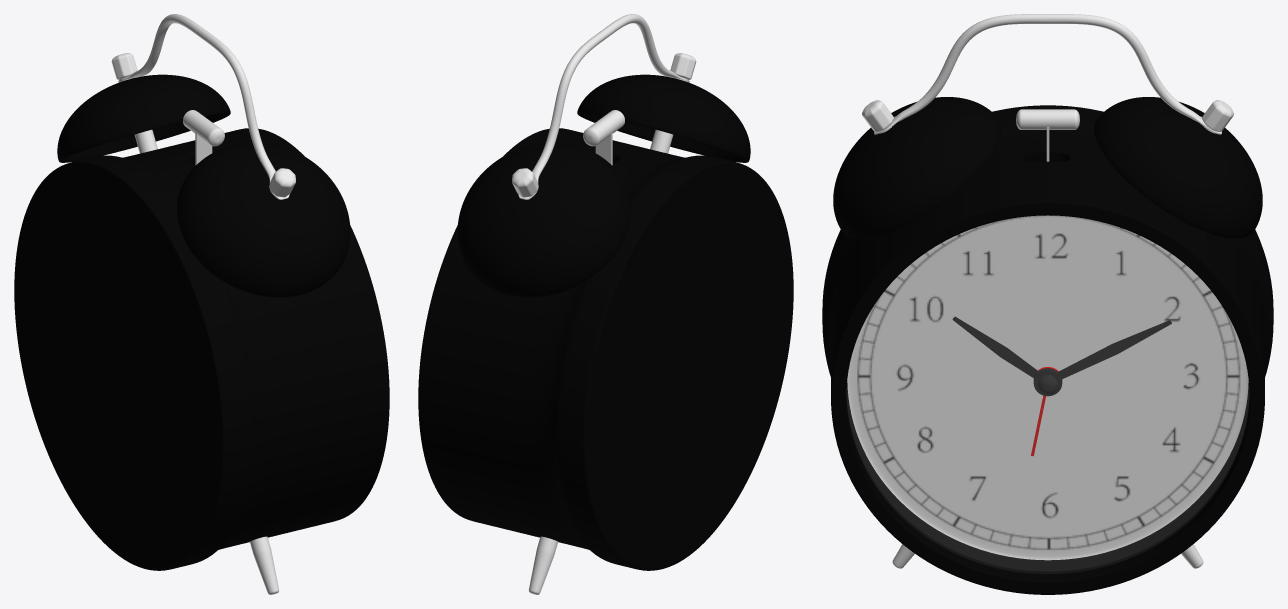
File: alarm_clock.glb
The picture shows the model from 3 angles, left to right: view 1: azimuth 30°, elevation 25°; view 2: azimuth 150°, elevation 25°; view 3: azimuth 270°, elevation 25°; orthographic projection. The views are drawn at different scales.
Visible parts, largest first — view 1: object 1, object 3, object 4, object 2, object 6; view 2: object 1, object 3, object 4, object 2, object 6; view 3: object 1, object 10, object 3, object 4, object 2, object 6, shizhen_8, fenzhen_7.
Part boxes in pixels (bbox=[...]): object 1: bbox=[14, 128, 389, 570]; object 3: bbox=[57, 74, 350, 297]; object 4: bbox=[118, 14, 289, 199]; object 2: bbox=[111, 53, 295, 594]; object 6: bbox=[183, 110, 224, 146]; object 1: bbox=[418, 128, 793, 570]; object 3: bbox=[457, 74, 750, 297]; object 4: bbox=[518, 14, 689, 199]; object 2: bbox=[512, 53, 696, 594]; object 6: bbox=[583, 110, 624, 146]; object 1: bbox=[822, 105, 1273, 594]; object 10: bbox=[847, 216, 1248, 571]; object 3: bbox=[833, 97, 1262, 238]; object 4: bbox=[874, 14, 1221, 134]; object 2: bbox=[862, 100, 1233, 568]; object 6: bbox=[1016, 109, 1079, 129]; shizhen_8: bbox=[952, 316, 1062, 396]; fenzhen_7: bbox=[1033, 320, 1171, 380].
Bounding box in the file's own units: 0.1558 × 0.4472 × 0.3304.
Materials: 6 (1 with a texture image).
